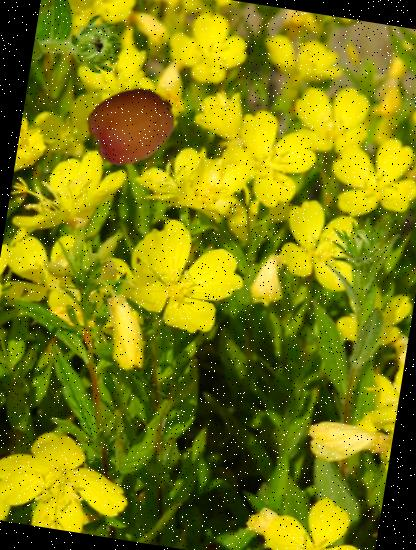Apricot: (81, 74, 181, 174)
